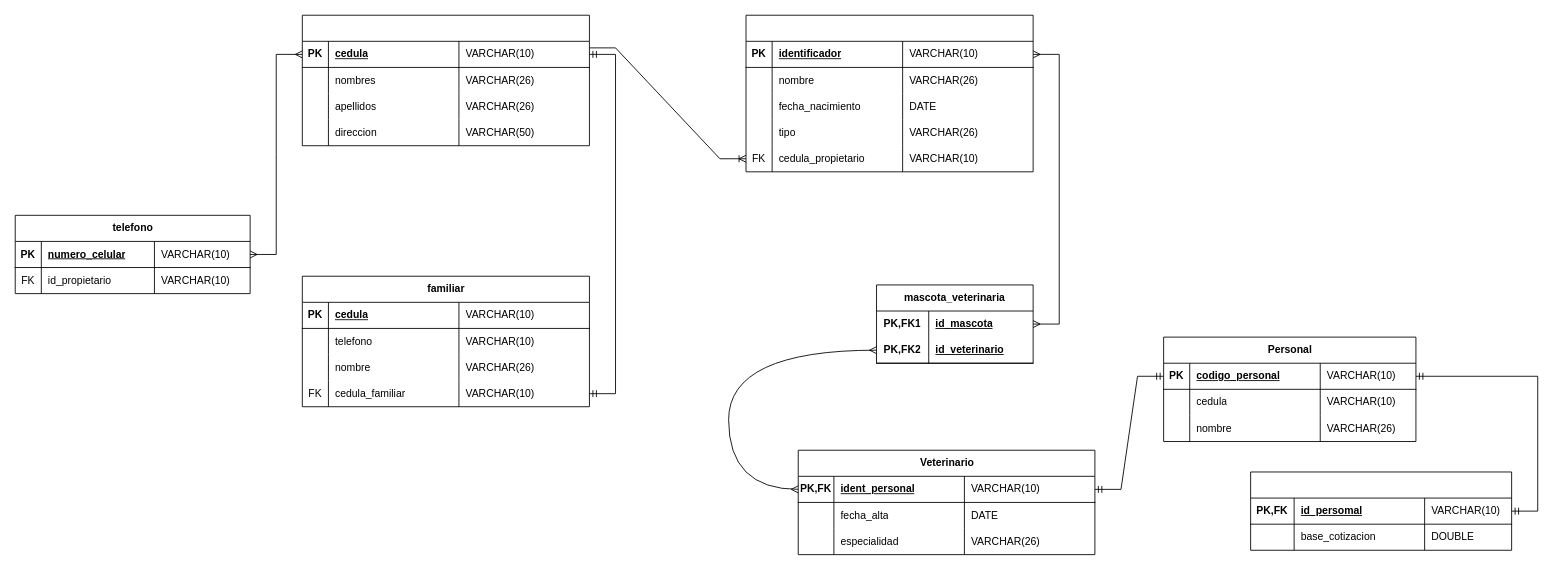
The diagram is 1561 pixels wide and 570 high, and some of its shapes have lost their labels. The box of each missing label's shape, as (x1, y1, x2, y2) in pixels:
Auxiliar: (1250, 471, 1512, 550)
Mascota: (745, 14, 1033, 172)
Propietario: (301, 14, 589, 146)
